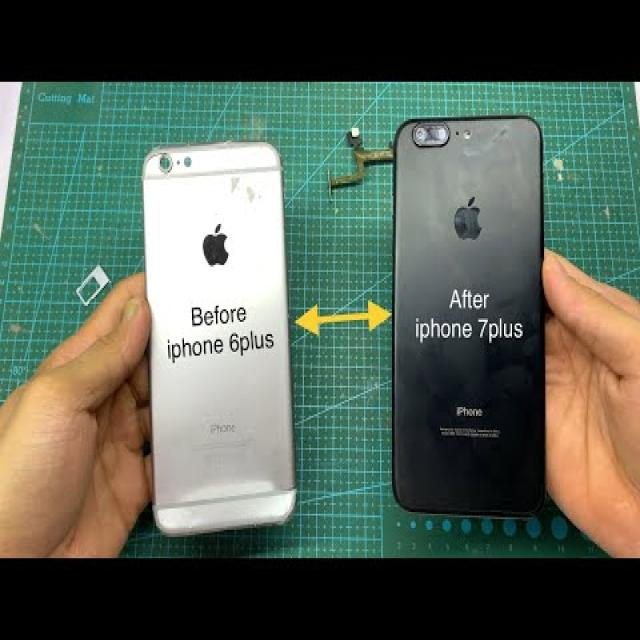mobile phone: (390, 112, 546, 519), (140, 139, 297, 535)
